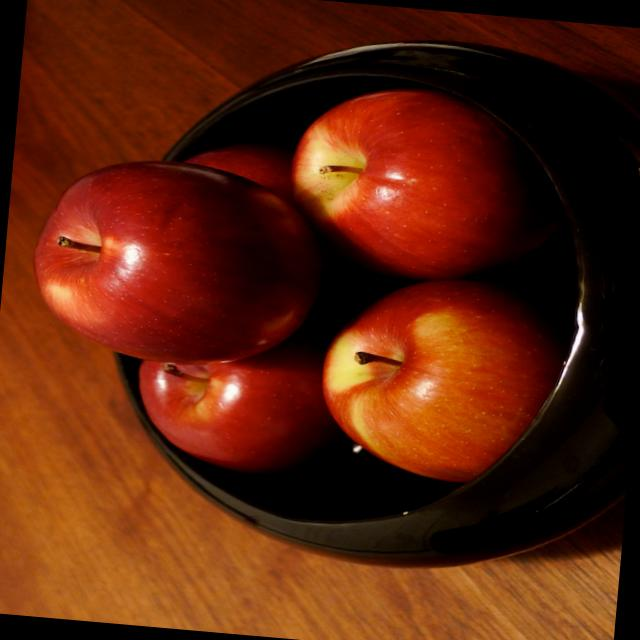apple: (23, 149, 319, 373), (272, 80, 542, 294), (309, 268, 559, 490)
